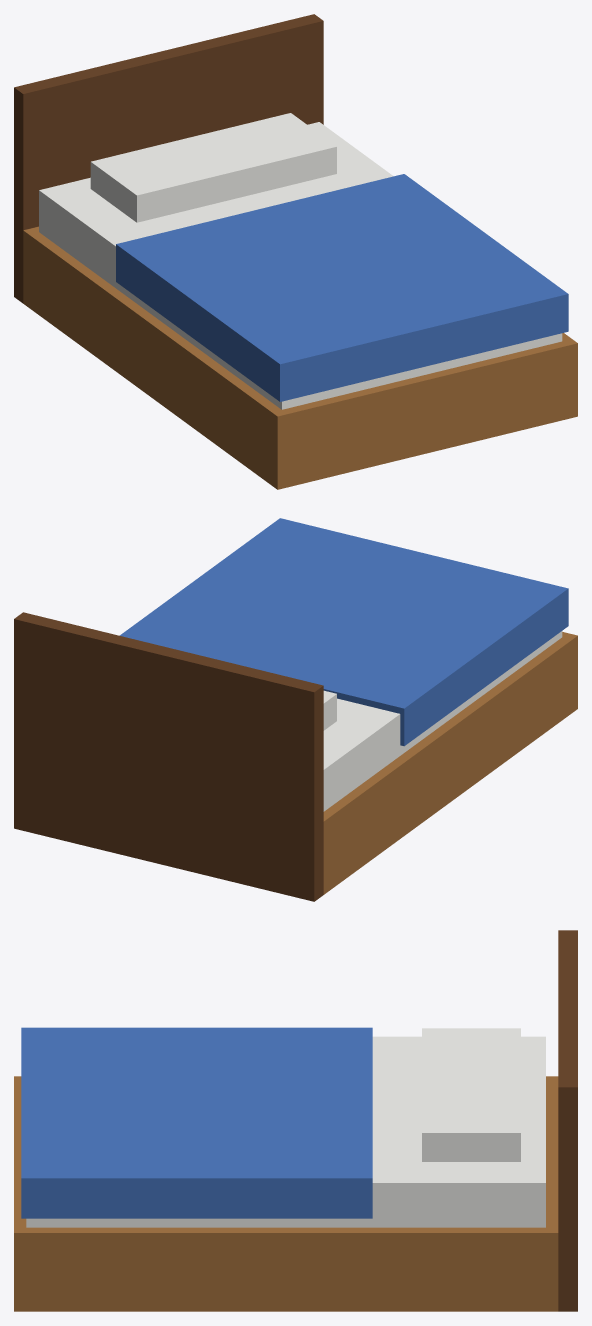
File: bed.glb
The picture shows the model from 3 angles, top to bottom: view 1: azimuth 30°, elevation 25°; view 2: azimuth 150°, elevation 25°; view 3: azimuth 270°, elevation 25°; orthographic projection. The views are drawn at different scales.
Parts seen in each view (by area): view 1: Blanket, Base, Headboard, Pillow, Mattress; view 2: Headboard, Blanket, Base, Mattress, Pillow; view 3: Blanket, Base, Mattress, Pillow, Headboard.
Boxes of the visible parts, bbox=[...] form: Blanket: bbox=[116, 174, 568, 401]; Base: bbox=[23, 226, 577, 489]; Headboard: bbox=[14, 14, 323, 303]; Pillow: bbox=[90, 113, 336, 222]; Mattress: bbox=[39, 122, 562, 409]; Headboard: bbox=[14, 612, 323, 901]; Blanket: bbox=[120, 518, 568, 746]; Base: bbox=[323, 632, 577, 894]; Mattress: bbox=[323, 631, 562, 811]; Pillow: bbox=[323, 690, 336, 730]; Blanket: bbox=[21, 1027, 372, 1218]; Base: bbox=[14, 1076, 558, 1311]; Mattress: bbox=[26, 1036, 545, 1227]; Pillow: bbox=[422, 1028, 520, 1161]; Headboard: bbox=[558, 930, 577, 1311].
Size of the model in its own units: 1.5 by 1 by 2.28.
